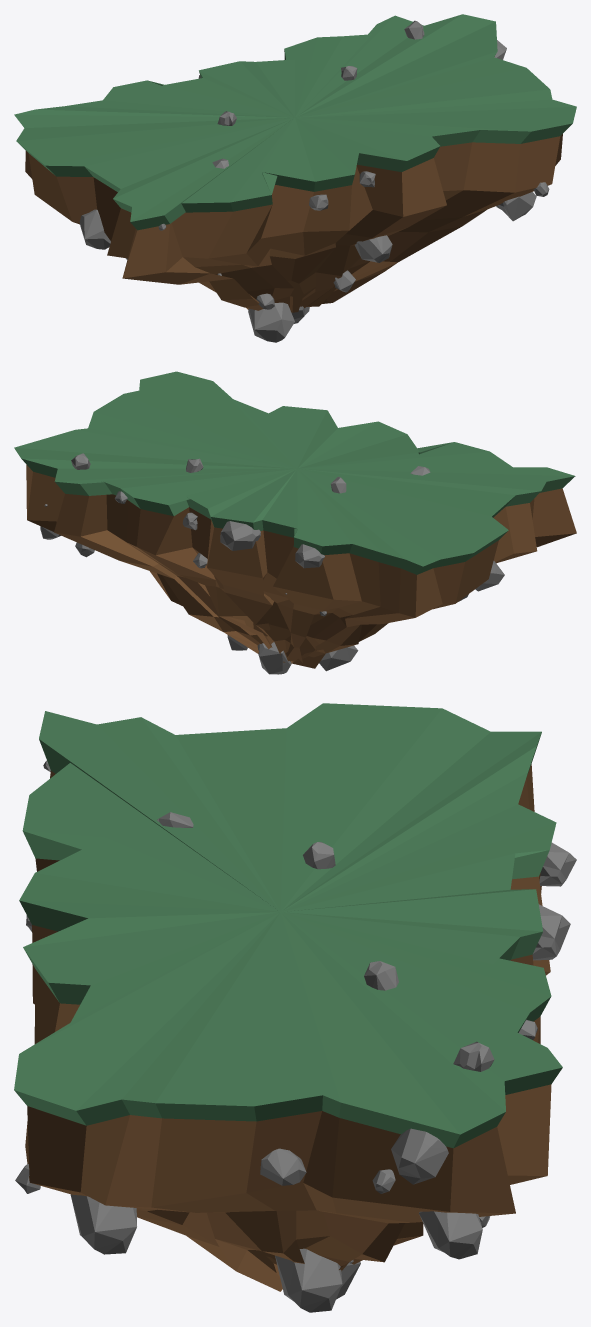
File: platforma1.fbx
3 renders of one model, top to bottom at view 1: azimuth 30°, elevation 25°; view 2: azimuth 150°, elevation 25°; view 3: azimuth 270°, elevation 25°, orthographic. The views are drawn at different scales.
Parts seen in each view (by area): view 1: Cube; view 2: Cube; view 3: Cube.
Boxes of the visible parts, box(x1,y1,x2,y2) form: Cube: box(14, 14, 576, 342); Cube: box(14, 371, 576, 674); Cube: box(14, 703, 576, 1312).
Bounding box in the file's own units: 1725 × 763 × 964.
